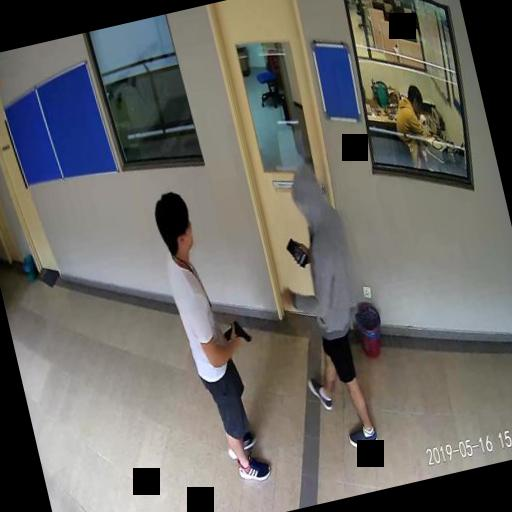Handgun: (220, 316, 251, 347)
